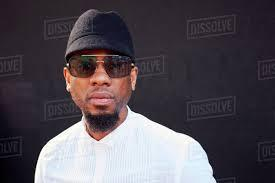cap: (57, 2, 143, 64)
sunglasses: (64, 48, 136, 81)
